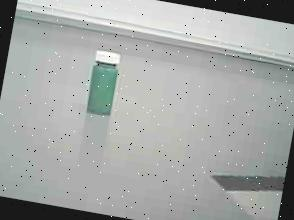Bottle C: (76, 45, 134, 129)
